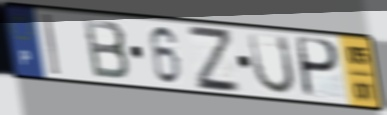6: (148, 24, 184, 86)
B: (81, 16, 133, 82)
I: (40, 12, 62, 78)
P: (296, 35, 342, 101)
U: (246, 31, 298, 97)
Z: (185, 23, 244, 95)
